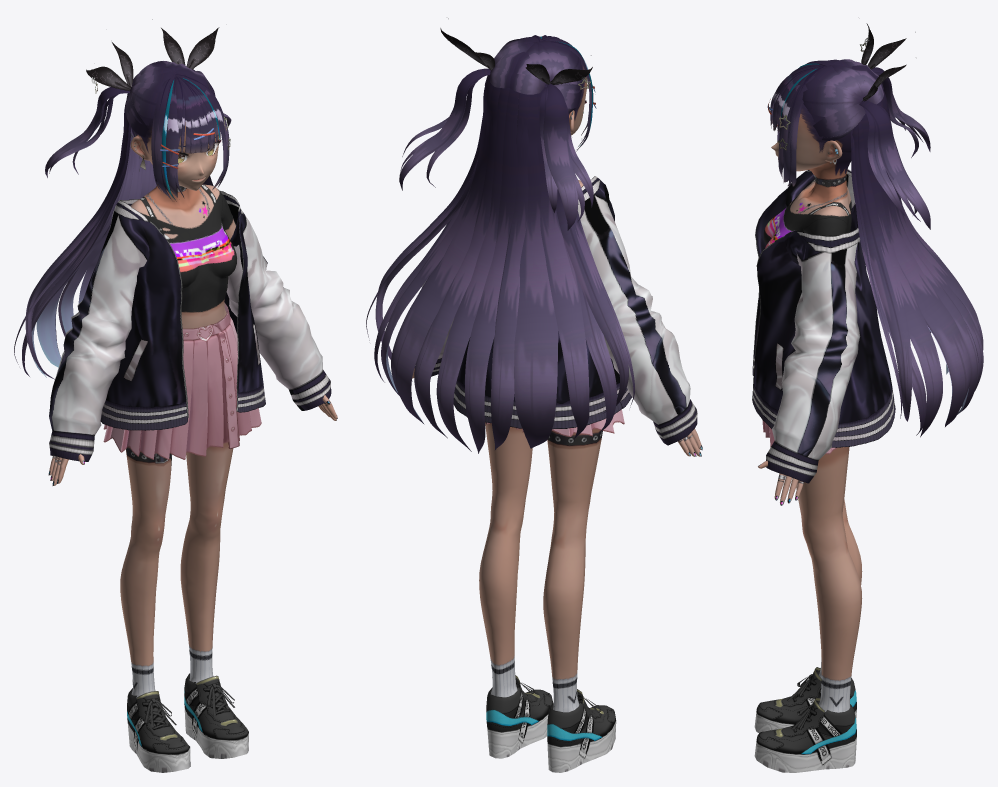
Rendered from guest-b.glb.
3 views of the same model, side by side, from view 1: azimuth 30°, elevation 25°; view 2: azimuth 150°, elevation 25°; view 3: azimuth 270°, elevation 25° (orthographic). The views are drawn at different scales.
Visible parts, largest first — view 1: Body (merged), Hair001 (merged), Face (merged); view 2: Hair001 (merged), Body (merged); view 3: Body (merged), Hair001 (merged), Face (merged).
Part boxes in pixels (bbox=[...]): Body (merged): bbox=[48, 127, 337, 772]; Hair001 (merged): bbox=[14, 19, 231, 379]; Face (merged): bbox=[130, 110, 221, 190]; Hair001 (merged): bbox=[366, 18, 634, 453]; Body (merged): bbox=[412, 42, 702, 772]; Body (merged): bbox=[752, 132, 895, 772]; Hair001 (merged): bbox=[767, 23, 983, 437]; Face (merged): bbox=[771, 104, 842, 171].
Size of the model in its own units: 0.6555 by 1.58 by 0.5078.
Materials: 18 (18 with a texture image).
